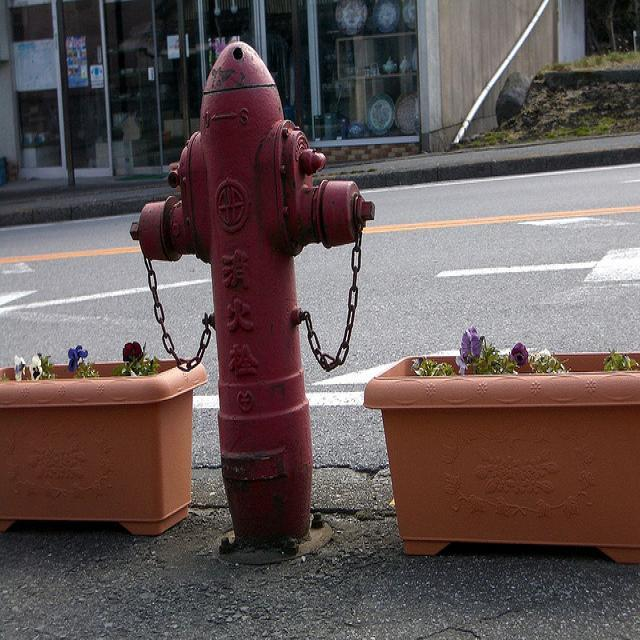fire_hydrant: (130, 28, 377, 560)
